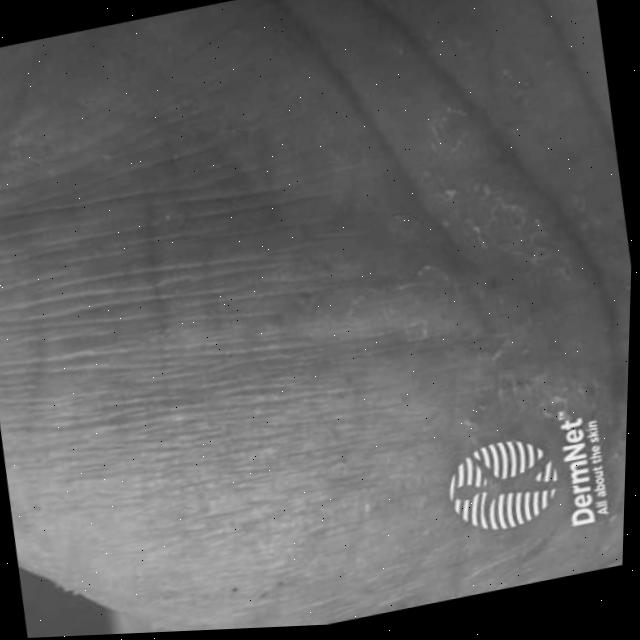Eczema: (43, 54, 628, 615)
